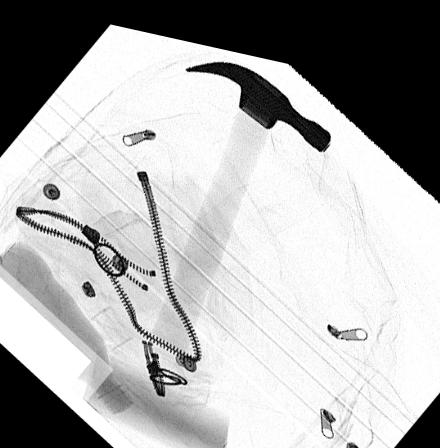Hammer: (142, 48, 332, 355)
